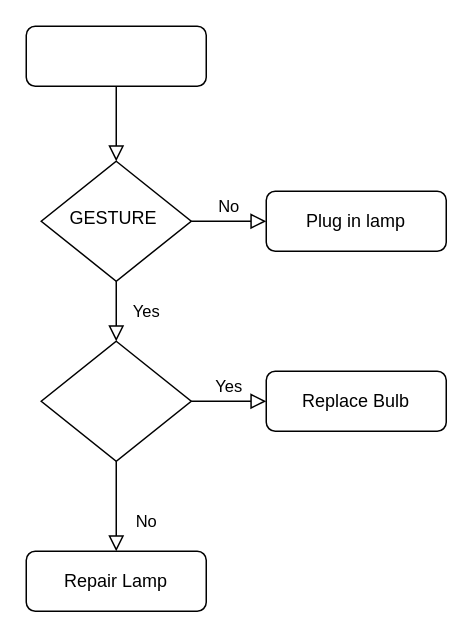
This 473x638 diagram has some shape labels left out. Each missing label, with the centre of its shape:
Button to power on: (x=115, y=55)
Change Mode: (x=115, y=400)
